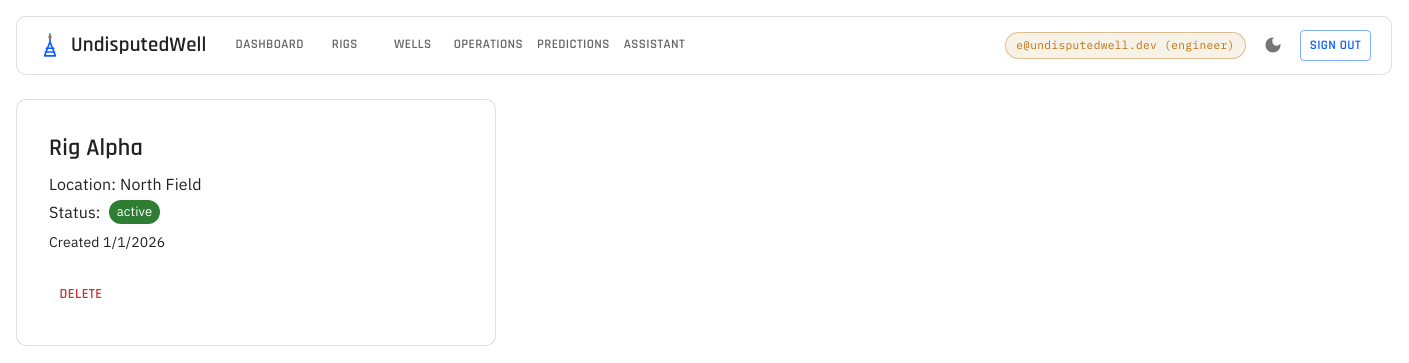
RigDetailPage › cancels the delete confirmation without deleting
This screenshot has width=1409, height=363.
Expected: the heading "Rig Alpha" is shown, top-left (49, 133), bottom-right (143, 163)
Click the button "Delete": (81, 294) top-left (49, 276), bottom-right (113, 313)
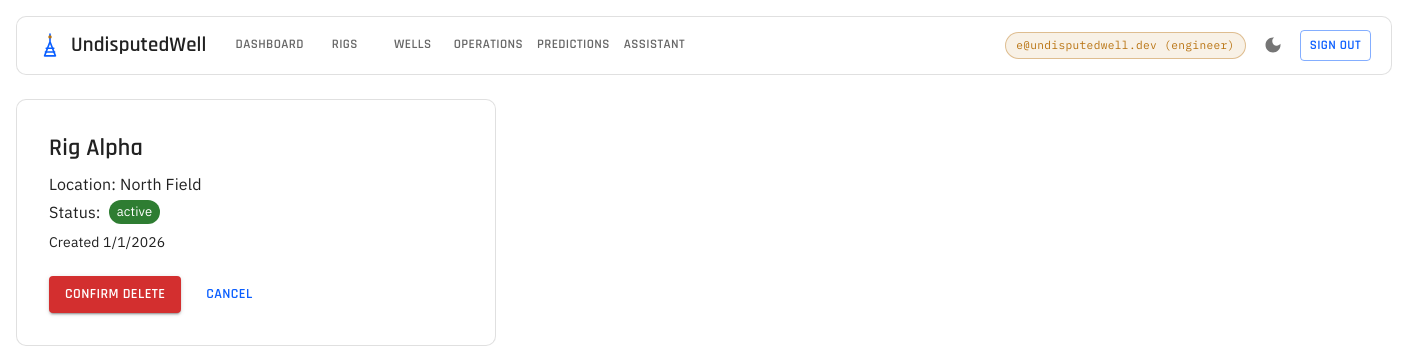
Click the button "Cancel": (230, 294) top-left (198, 276), bottom-right (262, 313)
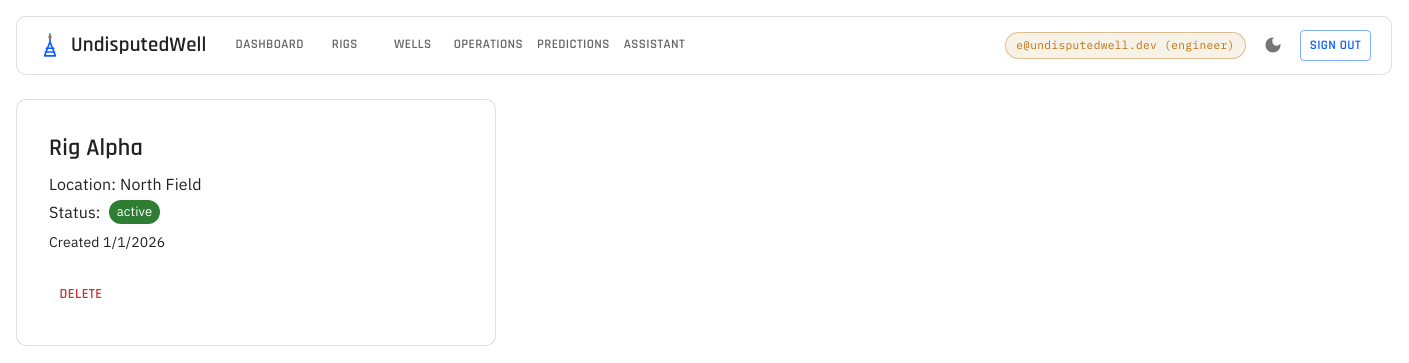
Expected: the heading "Rig Alpha" is shown, top-left (49, 133), bottom-right (143, 163)
Expected: the button with test id "confirm-delete-rig" is gone
